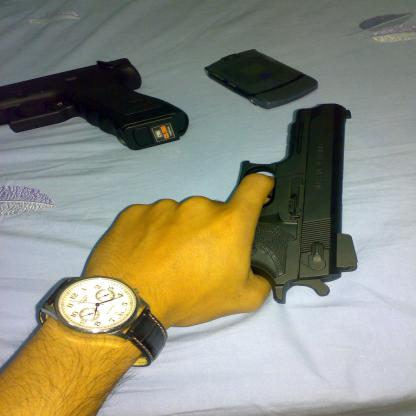Handgun: (237, 103, 357, 304), (0, 58, 189, 151)
